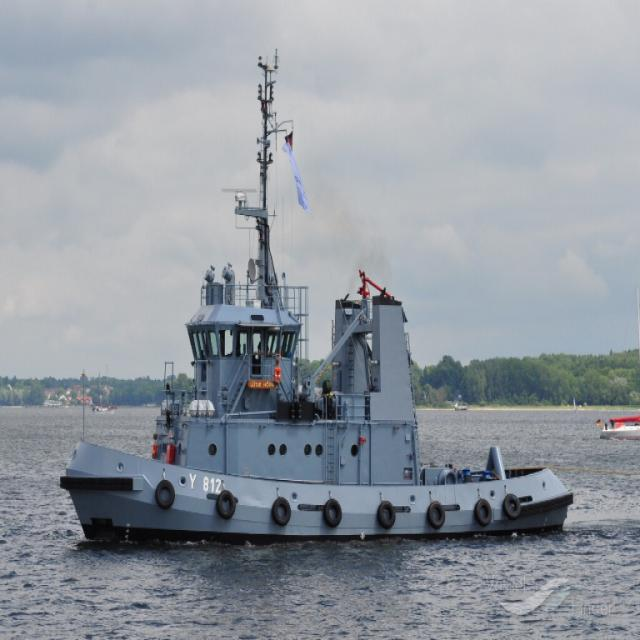OCR: (180, 463, 229, 505)
